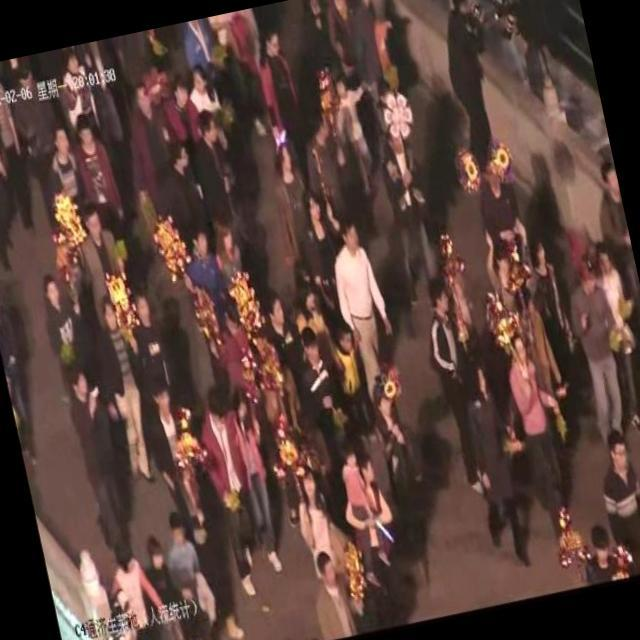person: (497, 316, 589, 554), (447, 343, 542, 572), (414, 264, 496, 508), (190, 382, 274, 606), (58, 354, 144, 555), (334, 440, 418, 630), (222, 374, 296, 588), (323, 210, 406, 397), (564, 255, 640, 451), (84, 294, 162, 483), (324, 201, 404, 381), (372, 115, 448, 301), (140, 373, 218, 548), (435, 0, 503, 163), (587, 237, 640, 444), (590, 159, 640, 362), (260, 284, 322, 446), (159, 506, 232, 640), (582, 417, 640, 584), (326, 66, 394, 206), (296, 100, 366, 234), (292, 319, 354, 458), (249, 21, 315, 150), (0, 263, 41, 466), (586, 424, 640, 578), (172, 218, 238, 337), (9, 53, 66, 188), (259, 130, 319, 258), (493, 0, 562, 110), (102, 535, 172, 640), (465, 142, 536, 245), (118, 74, 182, 188), (0, 61, 41, 236), (66, 106, 128, 220), (139, 529, 202, 640), (341, 0, 407, 100), (31, 272, 90, 383), (303, 540, 367, 640), (190, 107, 243, 227), (38, 118, 94, 226), (124, 278, 176, 392), (210, 213, 258, 329), (0, 83, 28, 277), (286, 458, 340, 556), (289, 0, 349, 85), (160, 136, 207, 241), (573, 516, 632, 590), (178, 63, 226, 128), (175, 16, 223, 72), (164, 74, 204, 140)
